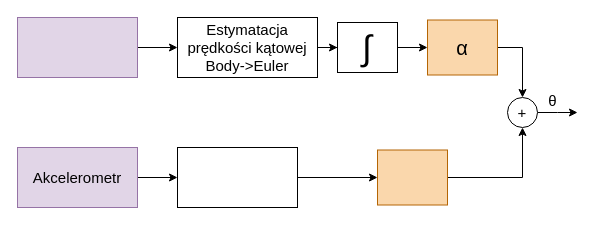
Image size: 603x225. Some labels were removed from this diagram. Each missing label, with the centre of its shape:
"1-α" belongs at (x=412, y=177).
"Estymatacja kąta Body->Euler" belongs at (x=237, y=177).
"Żyroskop" belongs at (x=77, y=47).
